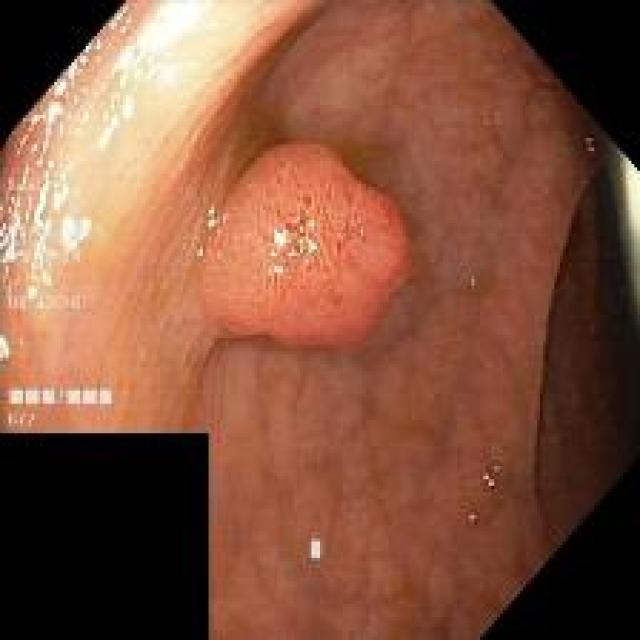Polyps: (200, 144, 408, 347)
